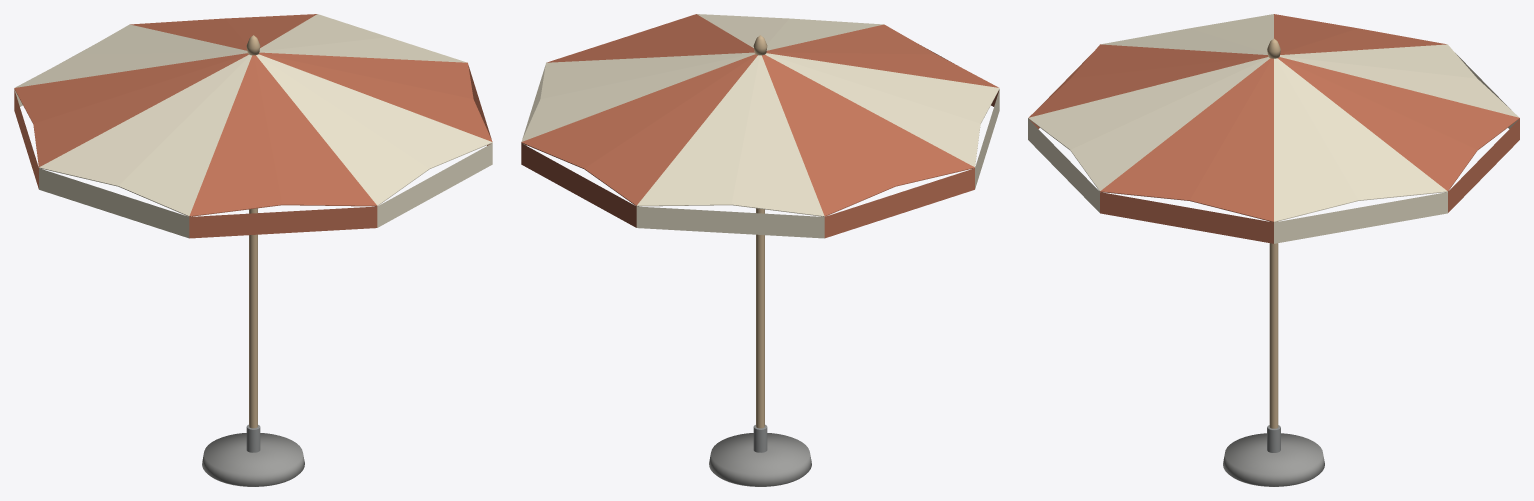
File: city-street-vendor-parasol.glb
The picture shows the model from 3 angles, left to right: view 1: azimuth 30°, elevation 25°; view 2: azimuth 150°, elevation 25°; view 3: azimuth 270°, elevation 25°; orthographic projection.
Parts seen in each view (by area): view 1: Assembly | Cream canvas canopy, Assembly | Terracotta canvas canopy, Assembly | Granite parasol base, Assembly | Natural ash pole; view 2: Assembly | Terracotta canvas canopy, Assembly | Cream canvas canopy, Assembly | Granite parasol base, Assembly | Natural ash pole; view 3: Assembly | Cream canvas canopy, Assembly | Terracotta canvas canopy, Assembly | Granite parasol base, Assembly | Natural ash pole.
Boxes of the visible parts, left/top/right/bottom form: Assembly | Cream canvas canopy: left=14, top=14, right=492, bottom=238; Assembly | Terracotta canvas canopy: left=14, top=14, right=492, bottom=238; Assembly | Granite parasol base: left=202, top=433, right=304, bottom=486; Assembly | Natural ash pole: left=246, top=35, right=260, bottom=428; Assembly | Terracotta canvas canopy: left=521, top=14, right=999, bottom=238; Assembly | Cream canvas canopy: left=521, top=14, right=999, bottom=238; Assembly | Granite parasol base: left=709, top=433, right=811, bottom=486; Assembly | Natural ash pole: left=753, top=35, right=767, bottom=428; Assembly | Cream canvas canopy: left=1028, top=14, right=1518, bottom=243; Assembly | Terracotta canvas canopy: left=1029, top=14, right=1519, bottom=243; Assembly | Granite parasol base: left=1223, top=433, right=1324, bottom=486; Assembly | Natural ash pole: left=1267, top=38, right=1280, bottom=428.
Bounding box in the file's own units: 2.5 × 2.4 × 2.5.
